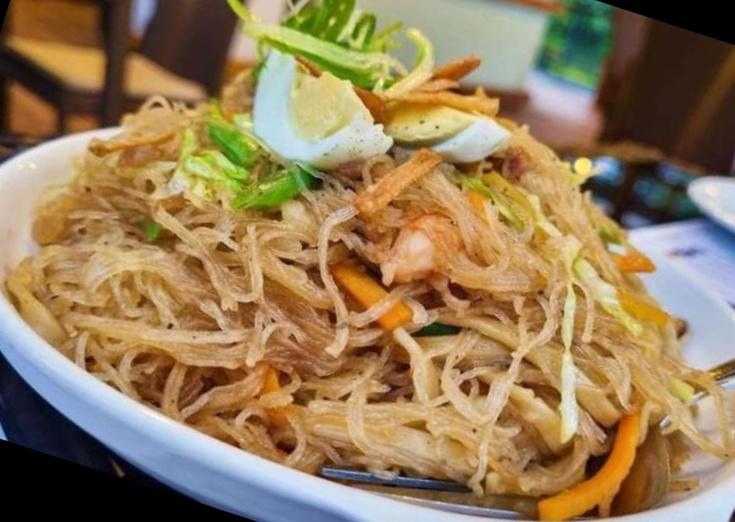pancit bihon: (34, 92, 677, 482)
